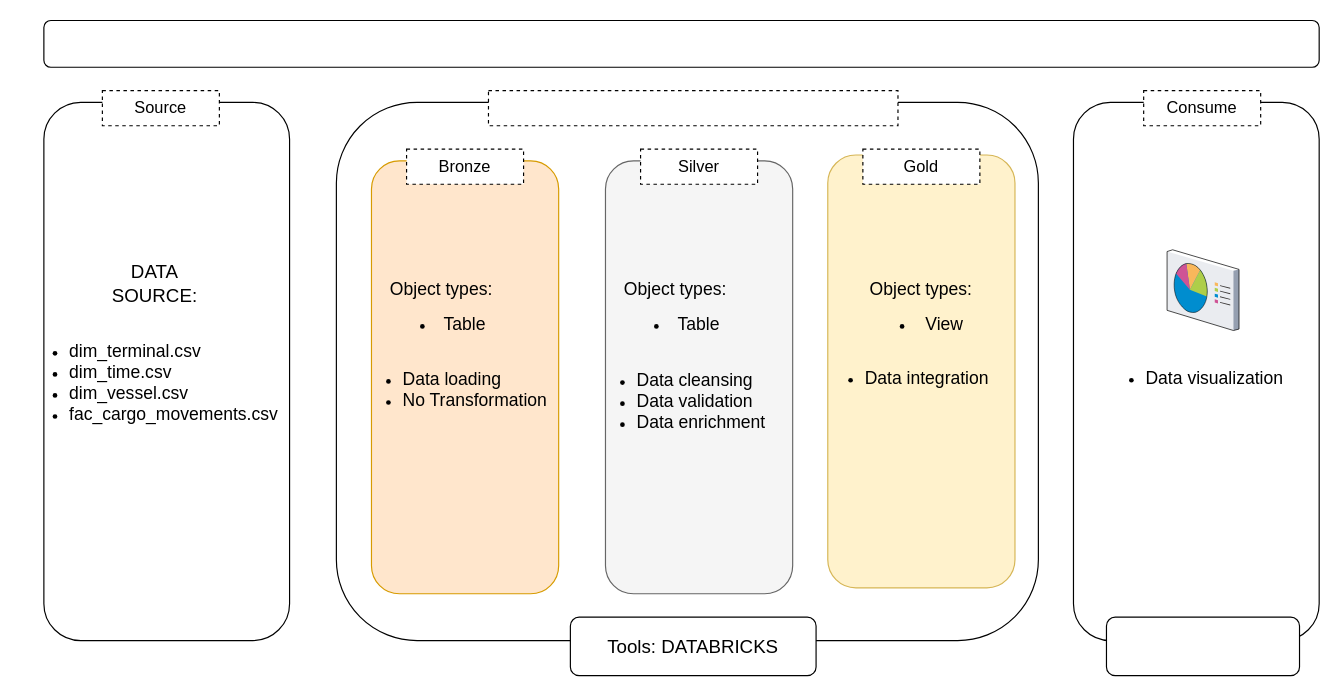
Image size: 1340x696. Some labels were removed from this diagram. The shapes that lost their labels are listed below. From the top down, each one's centre as x and y in pixels, then its label:
(x=681, y=43): DATA ARCHITECTURE
(x=692, y=108): Data warehouse
(x=1202, y=646): Tools: TABLEAU
